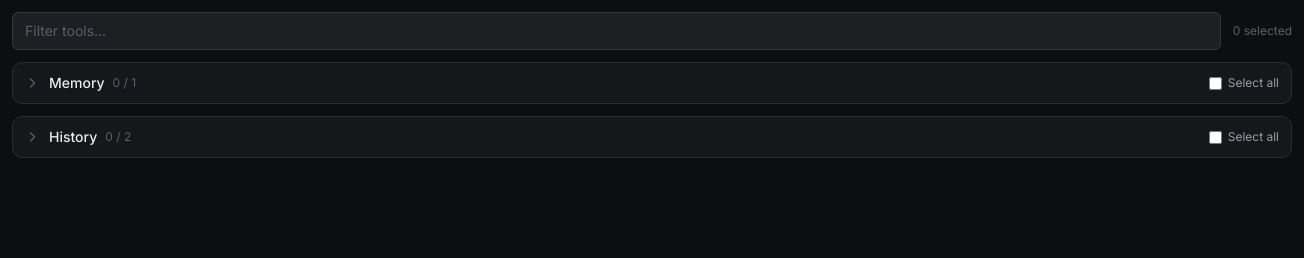
Test: ToolPicker › always shows the Memory group (recall) and never builtin.add
This screenshot has width=1304, height=258.
Click the text "Memory" at (77, 83), box [49, 73, 105, 93]
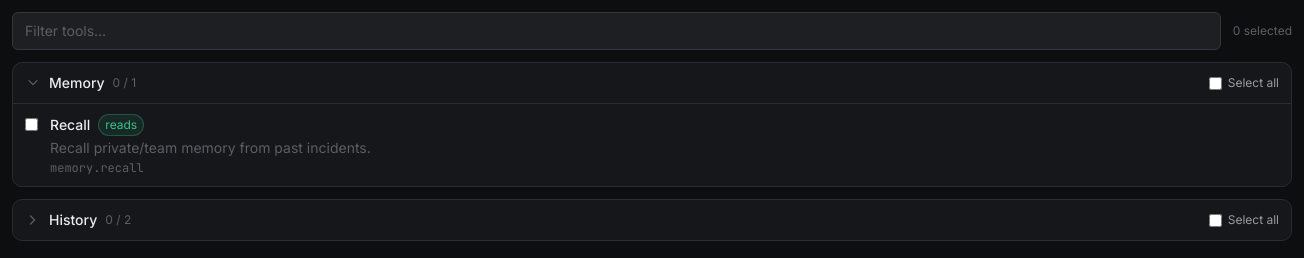
Now the text "Recall" is shown, box [50, 115, 90, 135]
